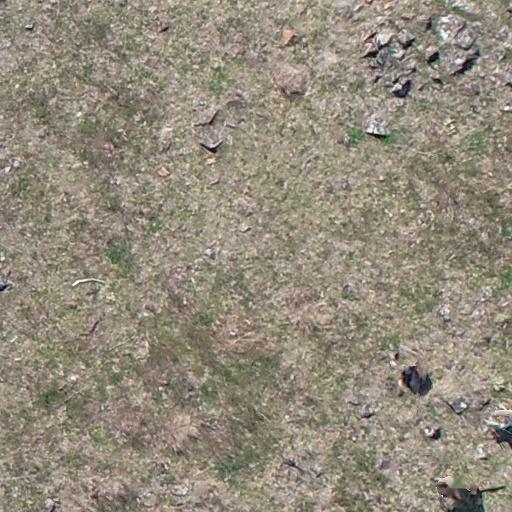stone: (439, 44, 480, 78), (449, 22, 479, 50), (366, 112, 392, 137), (392, 52, 418, 74), (490, 66, 512, 92), (194, 106, 220, 127), (390, 78, 412, 98), (1, 156, 22, 176), (434, 302, 454, 322), (375, 29, 396, 48), (458, 80, 480, 98), (202, 136, 226, 152), (488, 45, 508, 63), (374, 47, 392, 67), (474, 286, 492, 304), (203, 242, 219, 262), (222, 116, 244, 130), (399, 28, 416, 46), (361, 44, 379, 59), (358, 405, 376, 420), (336, 132, 352, 148), (390, 46, 407, 61), (184, 374, 198, 392), (474, 443, 488, 461), (424, 45, 439, 61), (496, 27, 512, 42), (158, 137, 172, 154), (154, 460, 170, 474), (171, 484, 189, 496), (178, 144, 194, 157), (338, 177, 352, 191), (156, 20, 170, 34), (400, 11, 418, 21), (108, 174, 121, 187), (340, 283, 352, 297), (430, 74, 444, 86), (144, 302, 156, 314), (302, 157, 312, 171), (240, 224, 251, 234), (24, 22, 35, 31), (383, 208, 392, 218), (228, 330, 237, 336)
